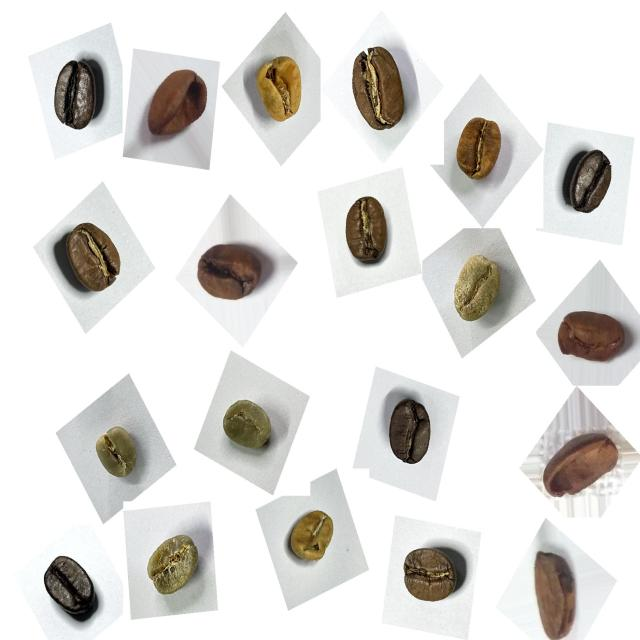bad: (537, 422, 622, 512), (188, 232, 274, 317), (142, 61, 218, 156), (550, 296, 634, 377), (521, 541, 589, 637)
dark: (42, 46, 115, 142), (36, 542, 108, 629), (375, 386, 443, 478), (556, 140, 624, 229)
green: (442, 246, 514, 338), (135, 523, 209, 611), (214, 388, 283, 464), (84, 416, 147, 492)
light: (245, 46, 315, 136), (450, 108, 514, 193), (279, 503, 344, 579)
medium: (337, 38, 418, 142), (54, 214, 134, 306), (392, 535, 468, 617), (333, 188, 402, 276)
